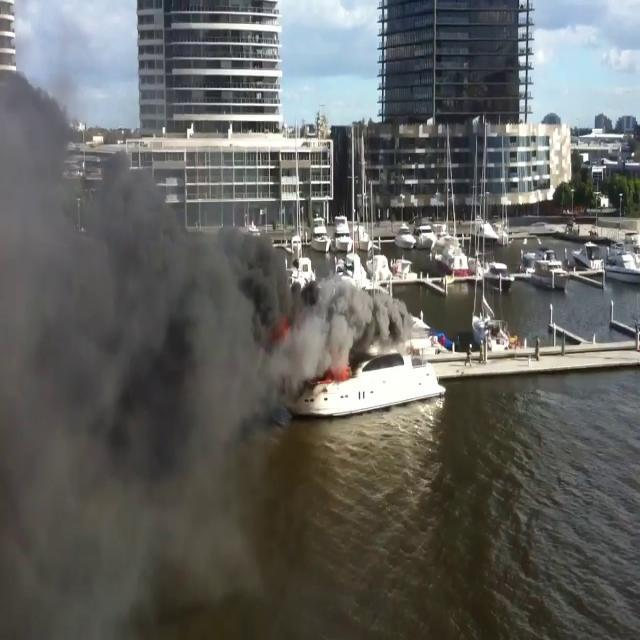Smoke: (0, 20, 319, 638), (286, 245, 406, 378)
